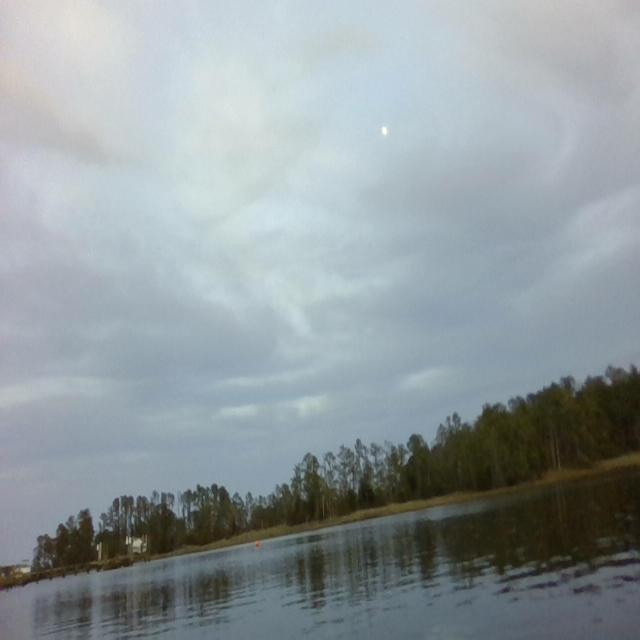Buoy: (254, 535, 261, 551)
